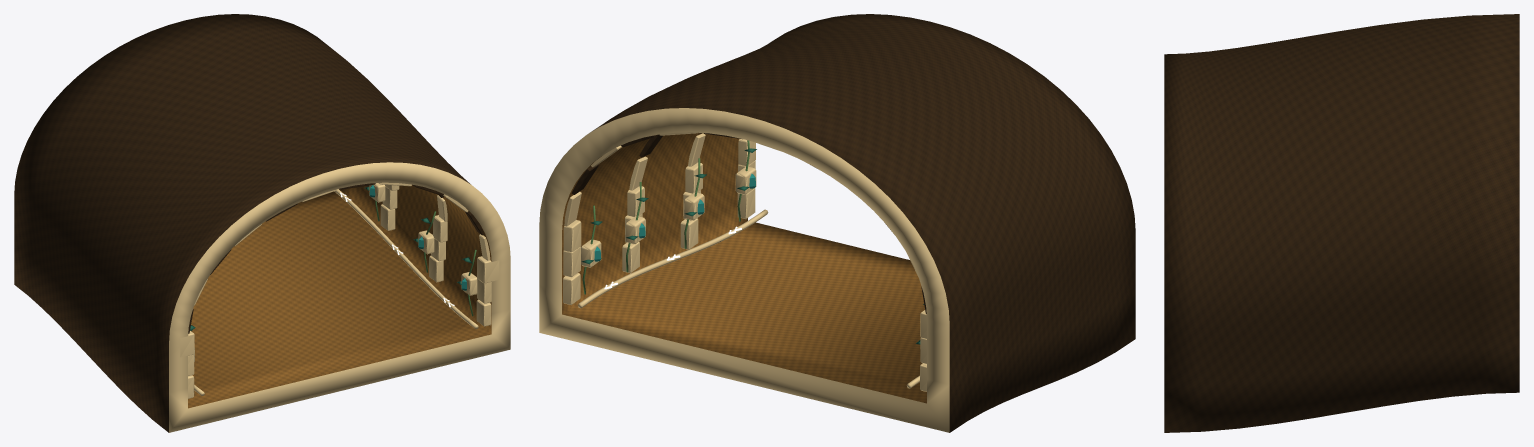
The model's file is grade_up_lod1.glb.
3 views of the same model, side by side, from view 1: azimuth 30°, elevation 25°; view 2: azimuth 150°, elevation 25°; view 3: azimuth 270°, elevation 25° (orthographic). The views are drawn at different scales.
Visible parts, largest first — view 1: TunnelGeometry.001; view 2: TunnelGeometry.001; view 3: TunnelGeometry.001.
Part boxes in pixels (x1=…): TunnelGeometry.001: x1=14, y1=14, x2=510, y2=432; TunnelGeometry.001: x1=539, y1=14, x2=1135, y2=432; TunnelGeometry.001: x1=1164, y1=14, x2=1519, y2=432.
Size of the model in its own units: 15.3 by 11.02 by 12.
7 materials, 2 textured.
